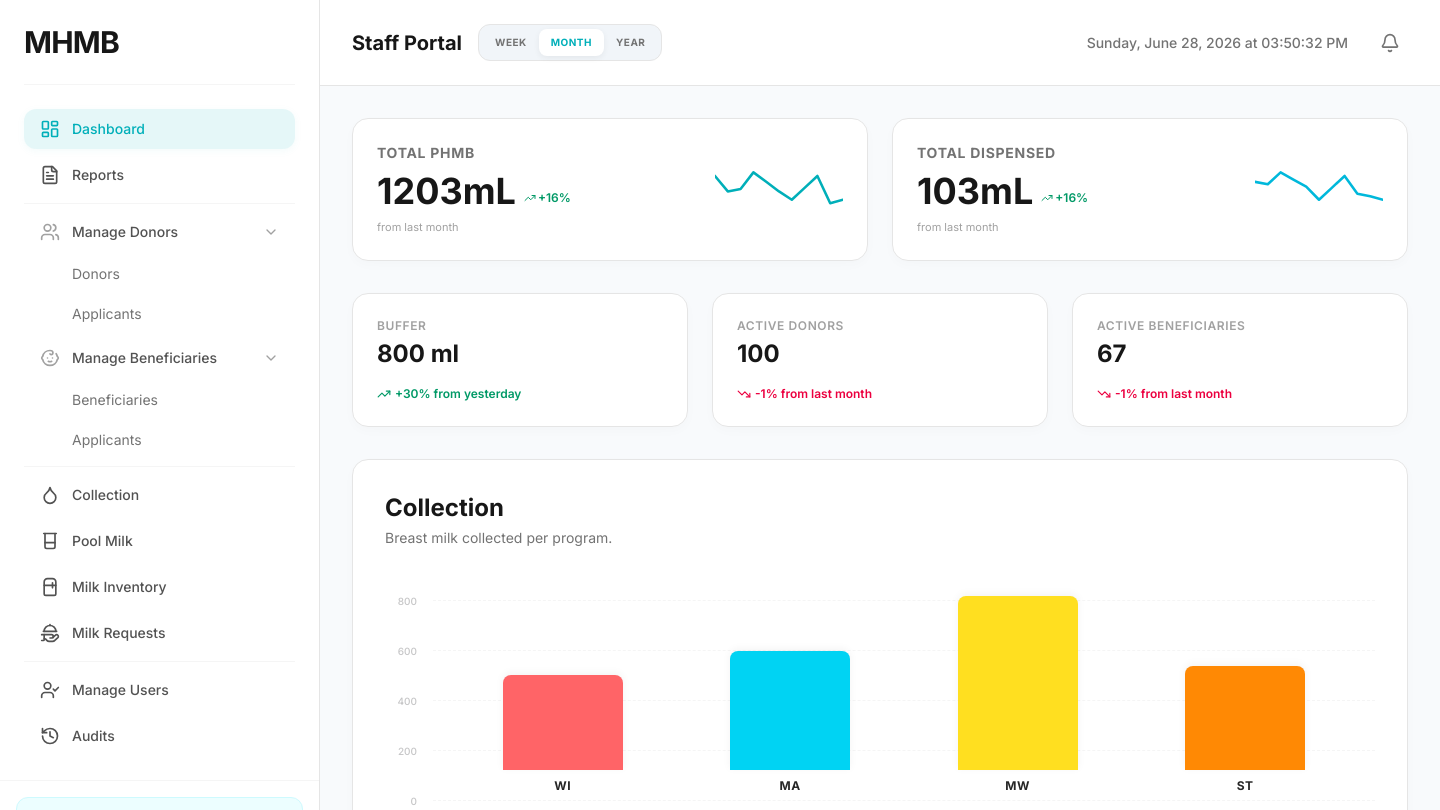
Test case: StaffDashboard Component › toggles collapsible sub-menus when header is clicked
Expected: the link with test id "nav-sub-donors" is shown, left=72, top=265, right=120, bottom=282
Expected: the link with test id "nav-sub-applicants" is shown, left=72, top=305, right=142, bottom=322
# Click Donors header to collapse
What coordinates should you click on to do the following:
click the button with test id "nav-donors-toggle"
I would click on:
 (160, 232)
Its box is left=24, top=212, right=295, bottom=252.
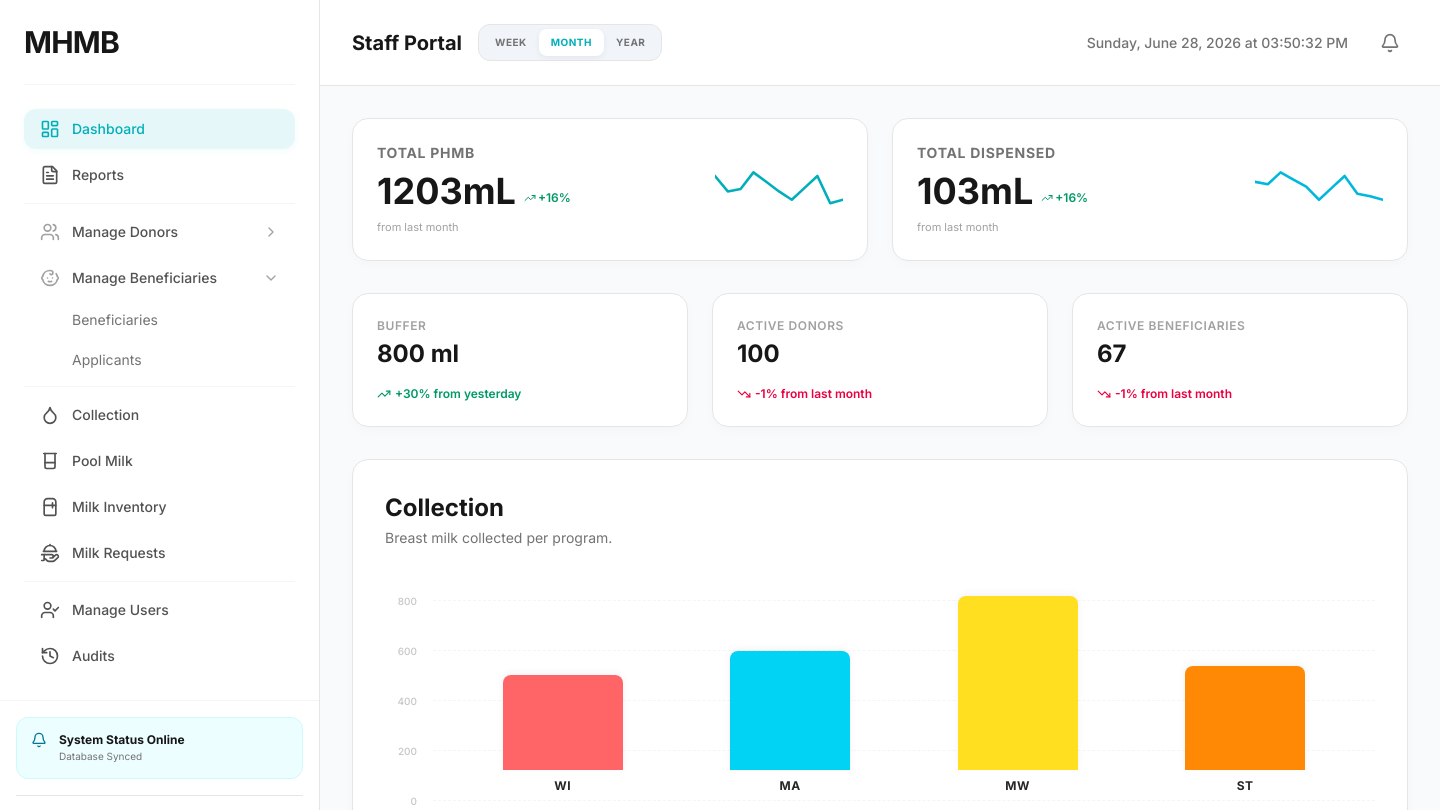
Expected: the link with test id "nav-sub-donors" is gone
# Click Beneficiaries header to collapse
What coordinates should you click on to do the following:
click the button with test id "nav-beneficiaries-toggle"
I would click on:
 (160, 278)
Its box is left=24, top=258, right=295, bottom=298.
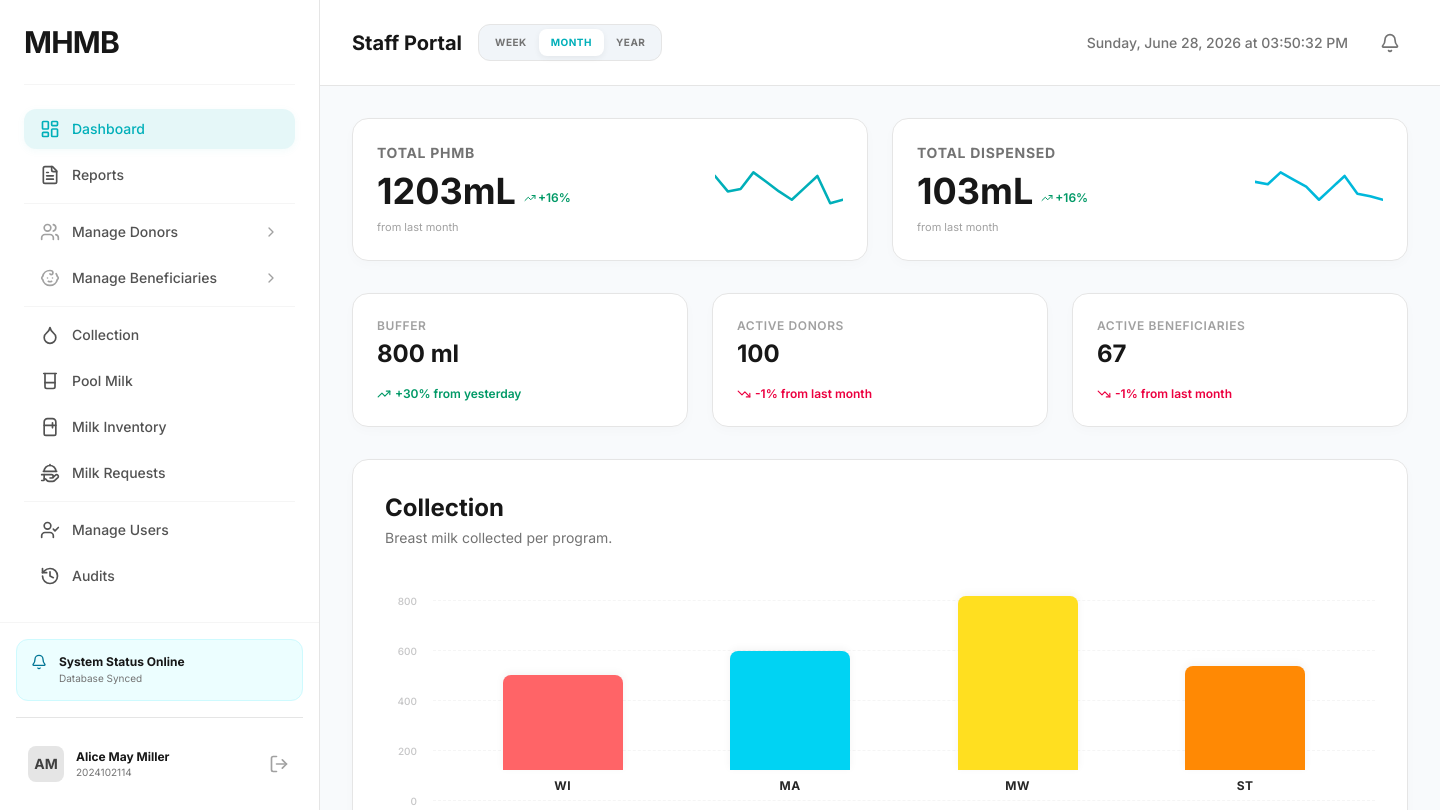
# Toggle them open again
What coordinates should you click on to do the following:
click the button with test id "nav-donors-toggle"
I would click on:
 (160, 232)
Its box is left=24, top=212, right=295, bottom=252.
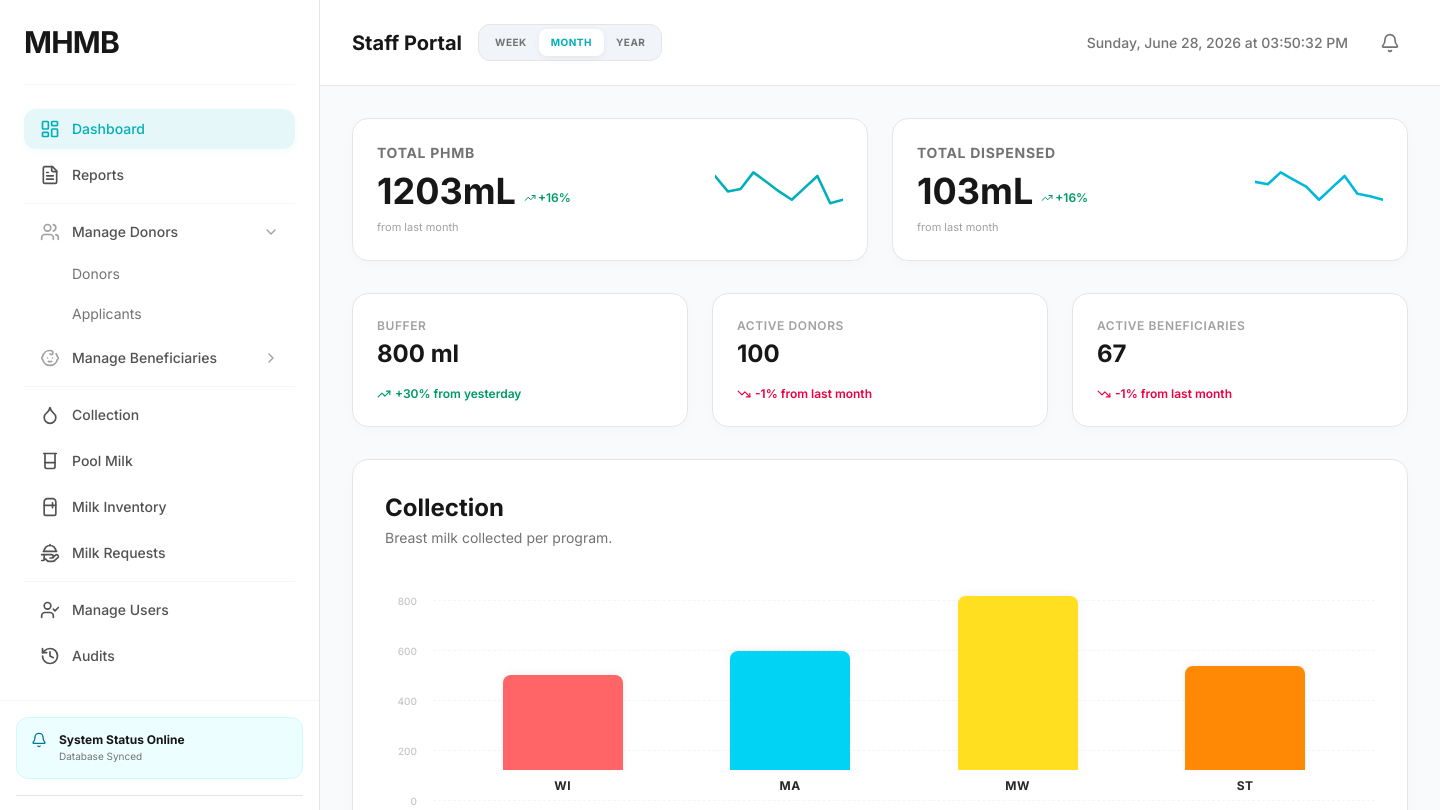
Expected: the link with test id "nav-sub-donors" is shown, left=72, top=265, right=120, bottom=282
